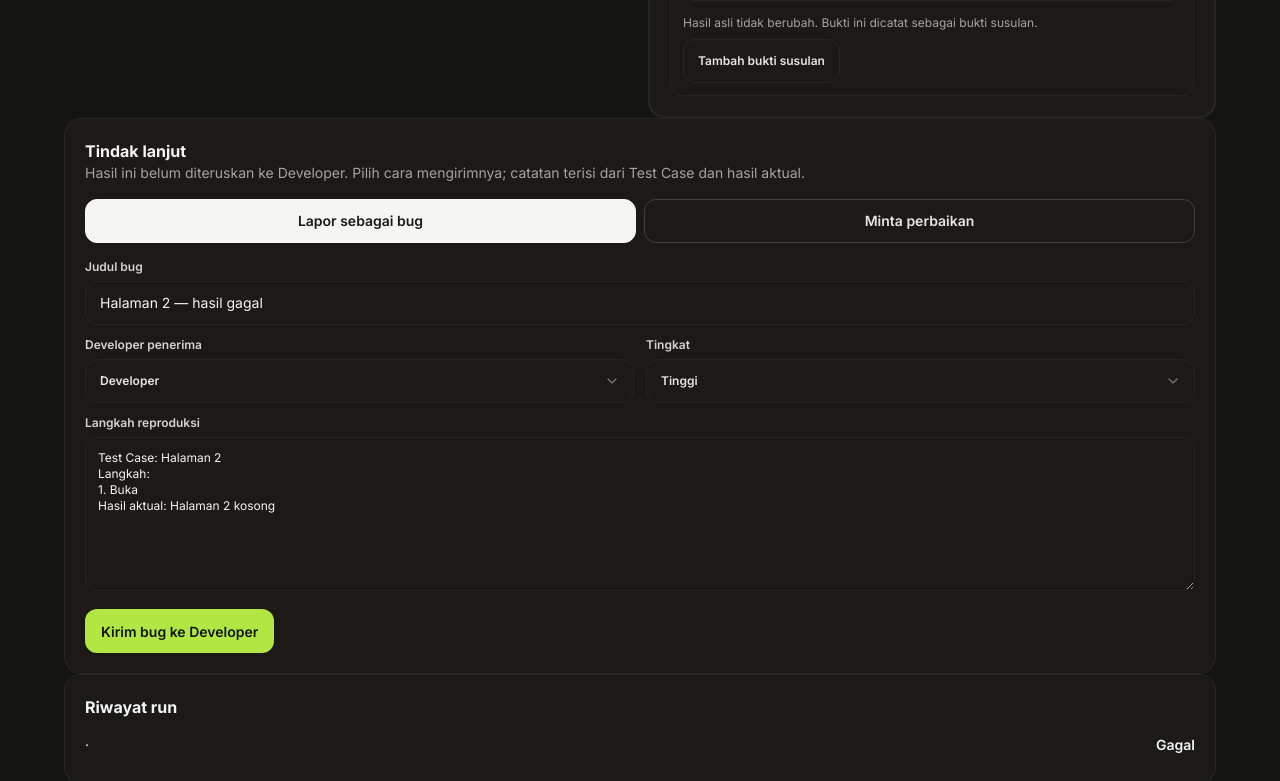
Test case: TestCaseRunPage › offers to report a failed result as a bug or request changes (AC-3.5)
The width and height of the screenshot is (1280, 781).
(page scrolled)
Expected: the heading "Tindak lanjut" is shown, [85,141,186,161]
Step 1. Select "Developer" in the dropdown labelled "Developer penerima" → {"x": 360, "y": 381}, box [85,359,634,403]
Step 2. Click the button "Kirim bug ke Developer" → {"x": 180, "y": 631}, box [85,609,274,653]
(page scrolled)
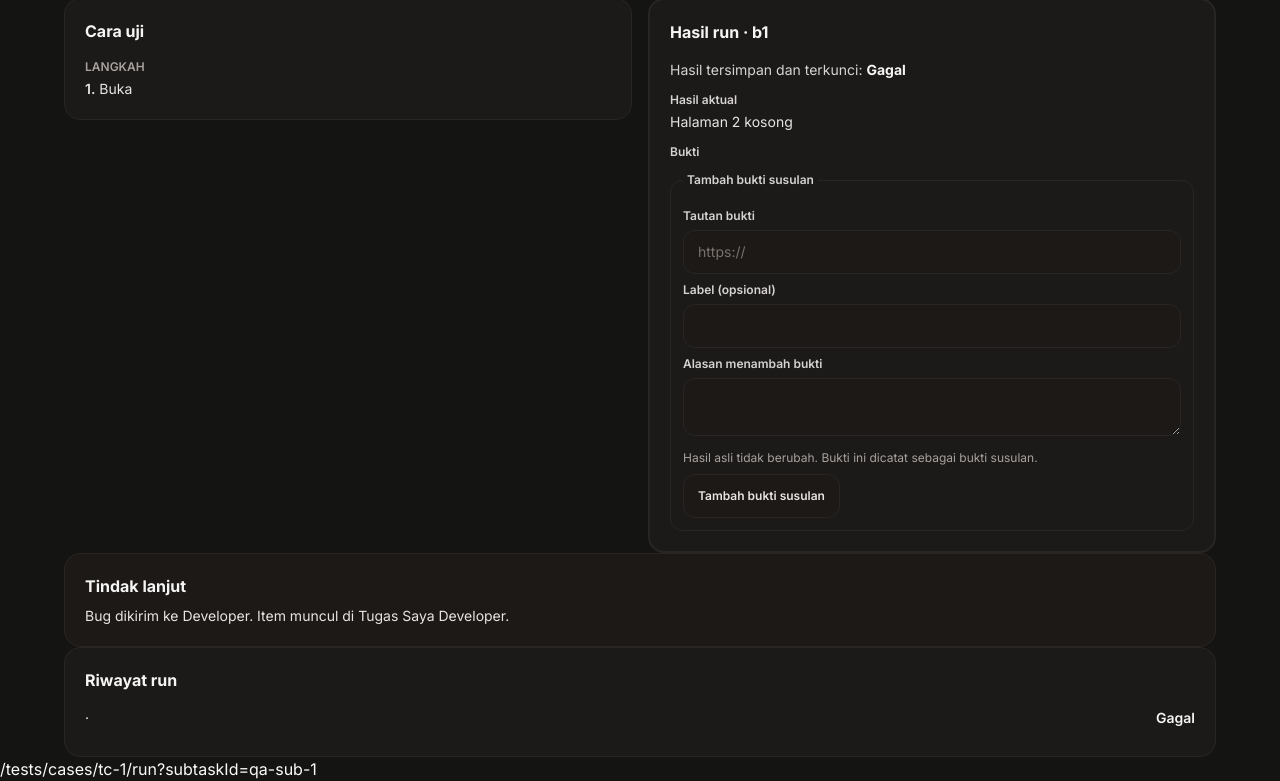
Expected: the text "Bug dikirim ke" is shown, [85,607,509,624]
